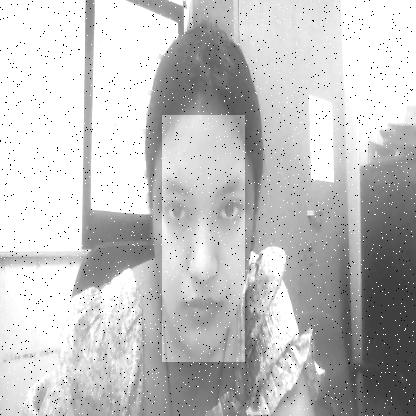Normal: (162, 115, 245, 362)
